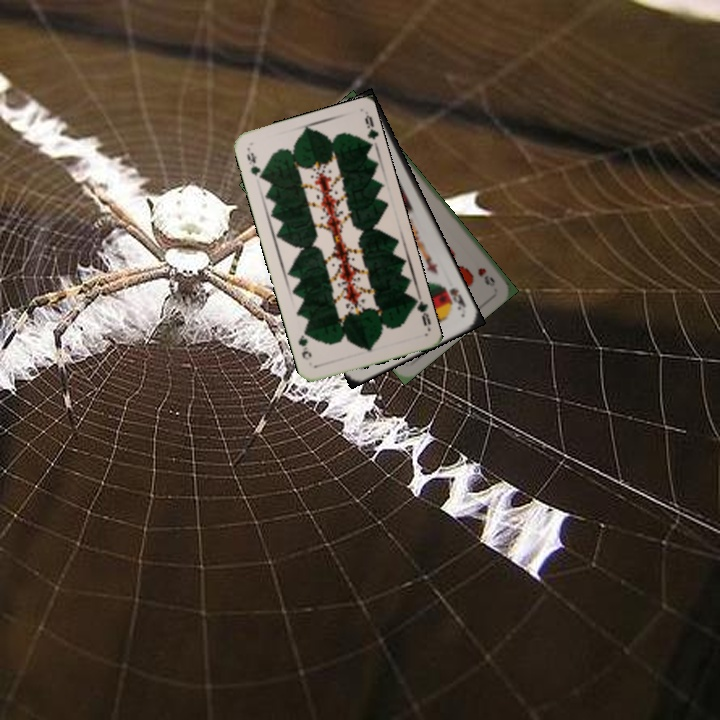G9: (409, 292, 434, 329), (243, 148, 266, 182)
H9: (474, 264, 498, 289)
SK: (445, 284, 469, 312)
